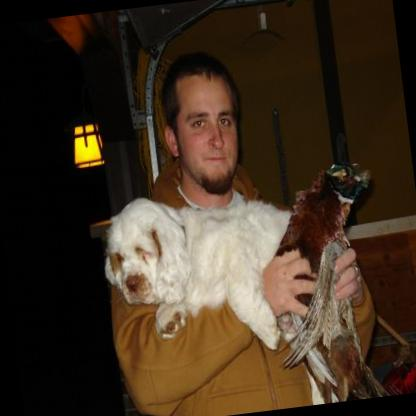clumber: (96, 177, 310, 370)
